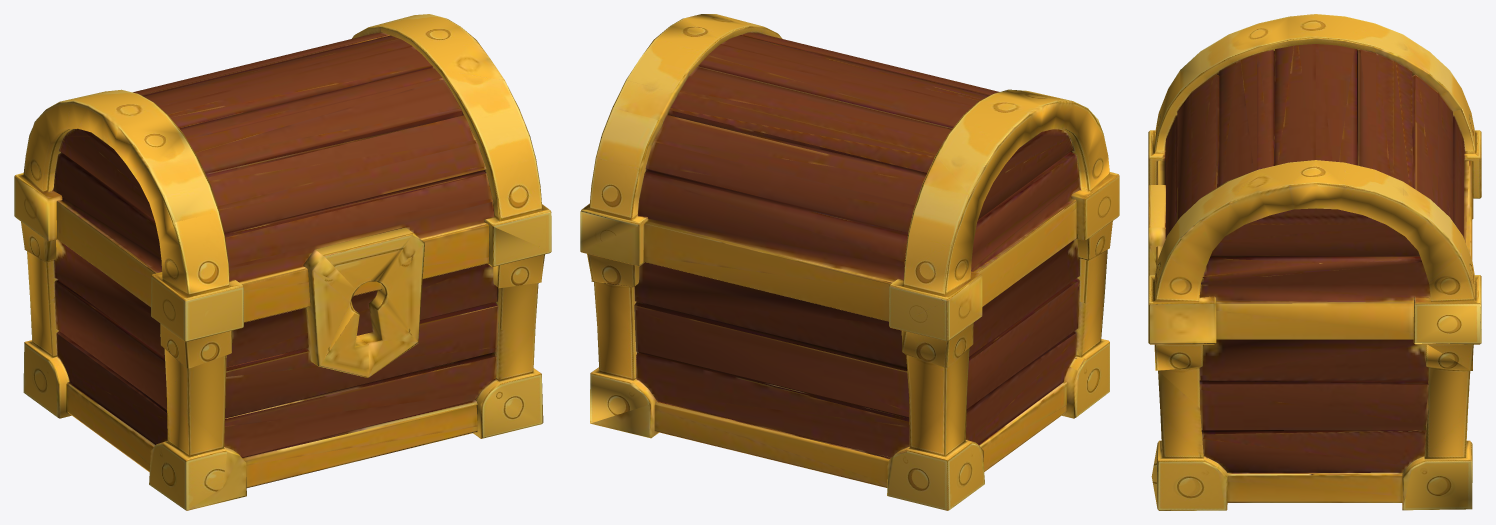
The model's file is Chest.fbx.
3 views of the same model, side by side, from view 1: azimuth 30°, elevation 25°; view 2: azimuth 150°, elevation 25°; view 3: azimuth 270°, elevation 25° (orthographic). The views are drawn at different scales.
Visible parts, largest first — view 1: ChestLid, Chest; view 2: ChestLid, Chest; view 3: ChestLid, Chest.
Part boxes in pixels (x1=…): ChestLid: x1=14, y1=14, x2=551, y2=340; Chest: x1=14, y1=177, x2=551, y2=510; ChestLid: x1=580, y1=14, x2=1119, y2=336; Chest: x1=580, y1=176, x2=1119, y2=510; ChestLid: x1=1148, y1=14, x2=1481, y2=342; Chest: x1=1148, y1=162, x2=1481, y2=510.
Size of the model in its own units: 1 by 0.8802 by 0.8109.
1 material, 1 textured.
